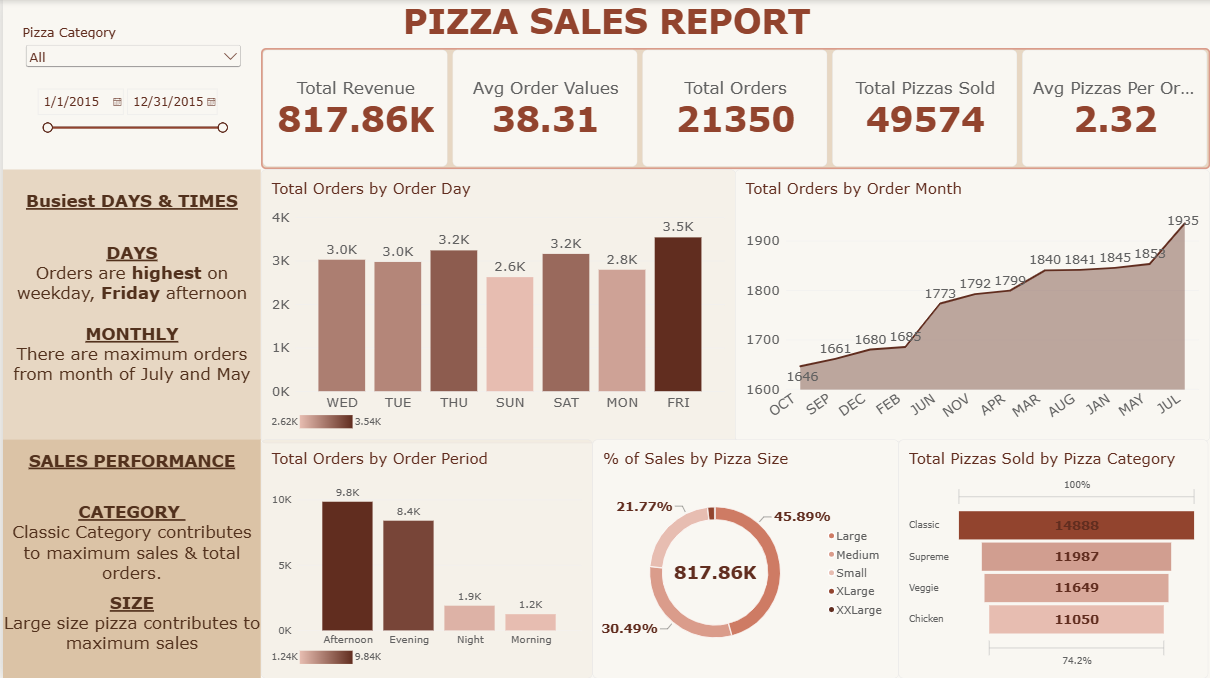

The dashboard page shown, as its layout file describes it:
{"tool":"powerbi","page":{"name":"Sales","canvas":[1920,1080],"ordinal":0},"visuals":[{"type":"cardVisual","fields":{"Data":["pizza_sales.Total Revenue","pizza_sales.Avg Order Values","pizza_sales.Total Orders","pizza_sales.Total Pizzas Sold","pizza_sales.Avg Pizzas Per Order"]},"box":[410,77.5,1510,192.5],"z":0},{"type":"textbox","box":[0,0,1920,76.7],"z":1000},{"type":"columnChart","fields":{"Category":["pizza_sales.Order Day"],"Y":["pizza_sales.Total Orders"]},"box":[410,270,755,435],"z":2000},{"type":"areaChart","fields":{"Category":["pizza_sales.Order Month"],"Y":["pizza_sales.Total Orders"]},"box":[1165,270,755,432.5],"z":3000},{"type":"donutChart","title":"% of Sales by Pizza Size","fields":{"Category":["pizza_sales.pizza_size"],"Y":["pizza_sales.Total Revenue"]},"box":[937.5,700,487.5,380],"z":4000},{"type":"funnel","title":"Total Pizzas Sold by Pizza Category","fields":{"Category":["pizza_sales.pizza_category"],"Y":["pizza_sales.Total Pizzas Sold"]},"box":[1425,700,492.5,380],"z":5000},{"type":"slicer","title":"Pizza Category","fields":{"Values":["pizza_sales.pizza_category"]},"box":[30,37.5,352.5,77.5],"z":6000},{"type":"slicer","title":"Pizza Category","fields":{"Values":["pizza_sales.order_date"]},"box":[47.5,135,318,78],"z":7000},{"type":"textbox","box":[0,270,410,430],"z":8000},{"type":"textbox","box":[0,700,410,380],"z":9000},{"type":"columnChart","title":"Total Orders by Order Period","fields":{"Category":["pizza_sales.Order Period"],"Y":["pizza_sales.Total Orders"]},"box":[410,700,527.5,380],"z":10000}]}

Visuals, with their boxes in screenshot pixels (x1, y1, x2, y2), scaled from the page's 1920x1080 canvas onto the 1210x678 screenshot:
cardVisual - pizza_sales.Total Revenue x pizza_sales.Avg Order Values: crop(258, 49, 1209, 170)
textbox: crop(0, 0, 1209, 48)
columnChart - pizza_sales.Order Day x pizza_sales.Total Orders: crop(258, 170, 734, 443)
areaChart - pizza_sales.Order Month x pizza_sales.Total Orders: crop(734, 170, 1209, 441)
"% of Sales by Pizza Size" donutChart: crop(591, 439, 898, 677)
"Total Pizzas Sold by Pizza Category" funnel: crop(898, 439, 1208, 677)
"Pizza Category" slicer: crop(19, 24, 241, 72)
"Pizza Category" slicer: crop(30, 85, 230, 134)
textbox: crop(0, 170, 258, 439)
textbox: crop(0, 439, 258, 677)
"Total Orders by Order Period" columnChart: crop(258, 439, 591, 677)
